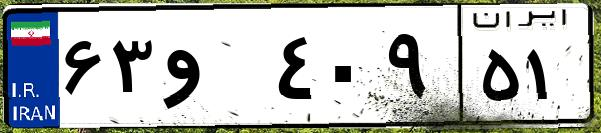0: (330, 28, 385, 110)
1: (525, 38, 570, 115)
3: (110, 28, 158, 98)
4: (270, 28, 330, 110)
5: (475, 38, 525, 113)
6: (57, 26, 110, 100)
9: (385, 28, 445, 110)
و: (158, 20, 270, 120)
